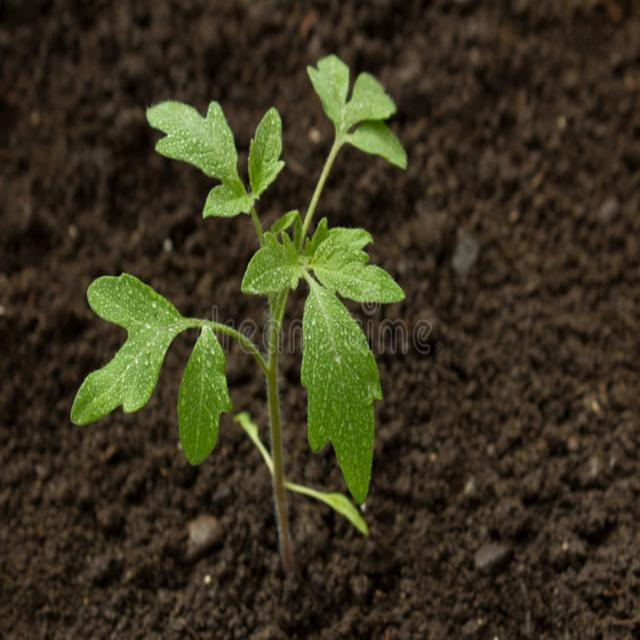plant: (70, 54, 407, 574)
